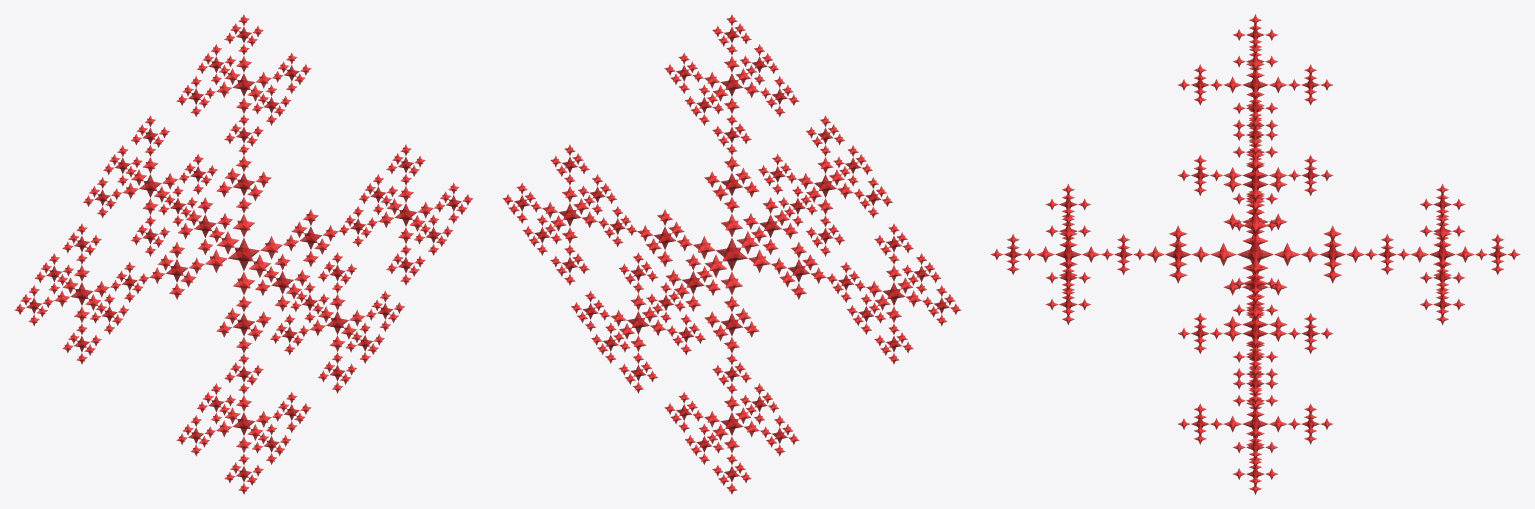
The model's file is fractalsmallhexacronicicositetrahedron3.glb.
The picture shows the model from 3 angles, left to right: view 1: azimuth 30°, elevation 25°; view 2: azimuth 150°, elevation 25°; view 3: azimuth 270°, elevation 25°; orthographic projection.
Size of the model in its own units: 12.28 by 12.28 by 12.28.
